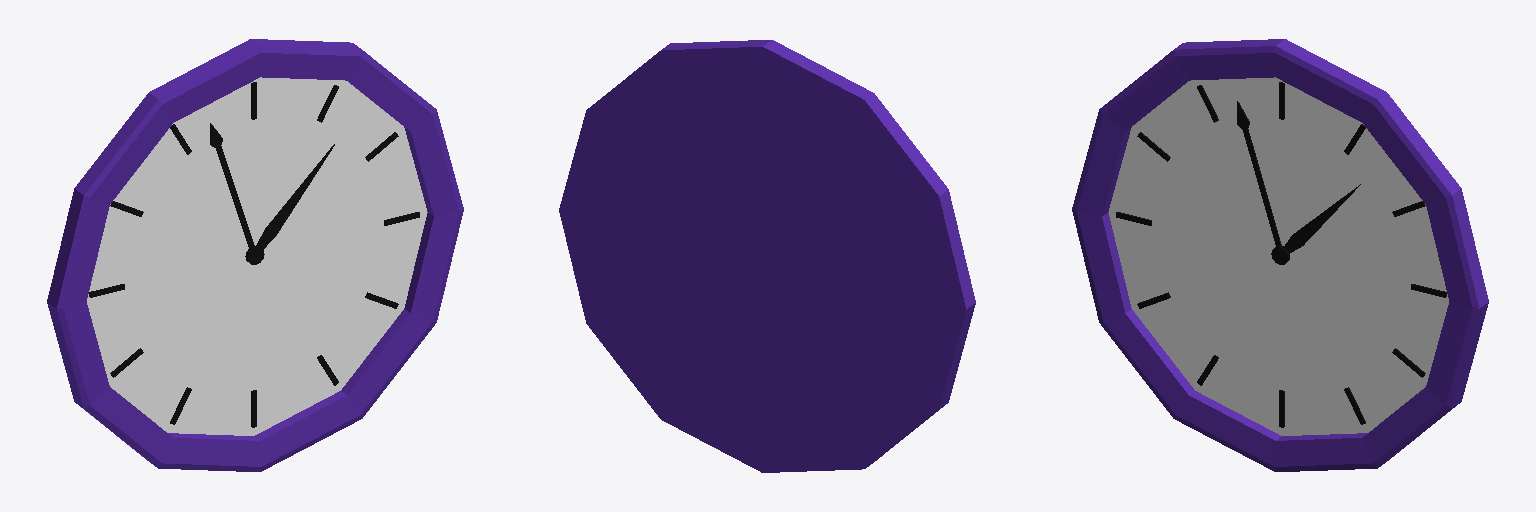
Rendered from Clock_01.obj.
3 renders of one model, left to right at view 1: azimuth 30°, elevation 25°; view 2: azimuth 150°, elevation 25°; view 3: azimuth 330°, elevation 25°, orthographic.
Visible parts, largest first — view 1: Clock_01_Circle.007; view 2: Clock_01_Circle.007; view 3: Clock_01_Circle.007.
Boxes of the visible parts, x1,y1,x2,y2 form: Clock_01_Circle.007: [47, 39, 463, 471]; Clock_01_Circle.007: [559, 40, 975, 472]; Clock_01_Circle.007: [1072, 39, 1488, 471].
Size of the model in its own units: 9.87 by 9.87 by 0.4458.